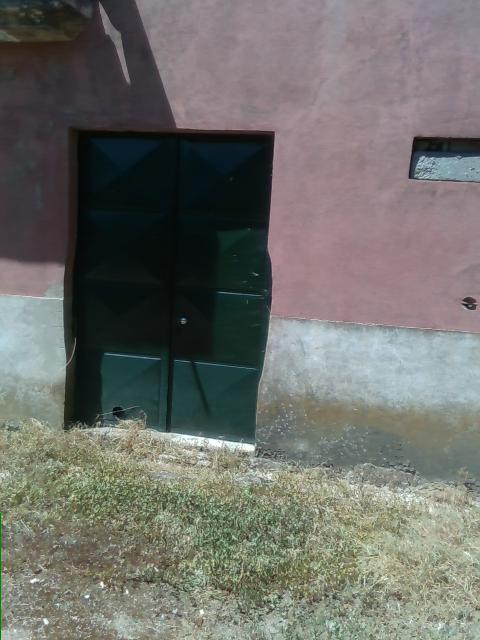closed_door: (68, 131, 273, 447)
